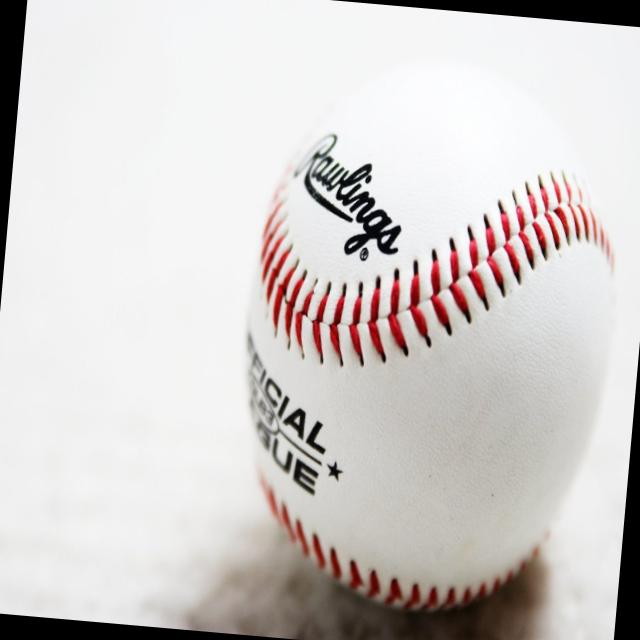Ball: (220, 84, 626, 628)
